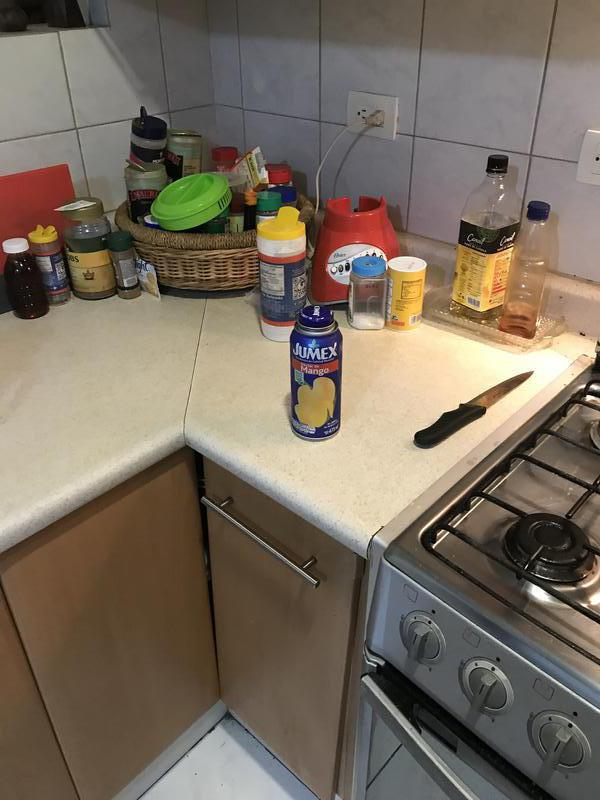jugo_jumex: (291, 304, 341, 439)
